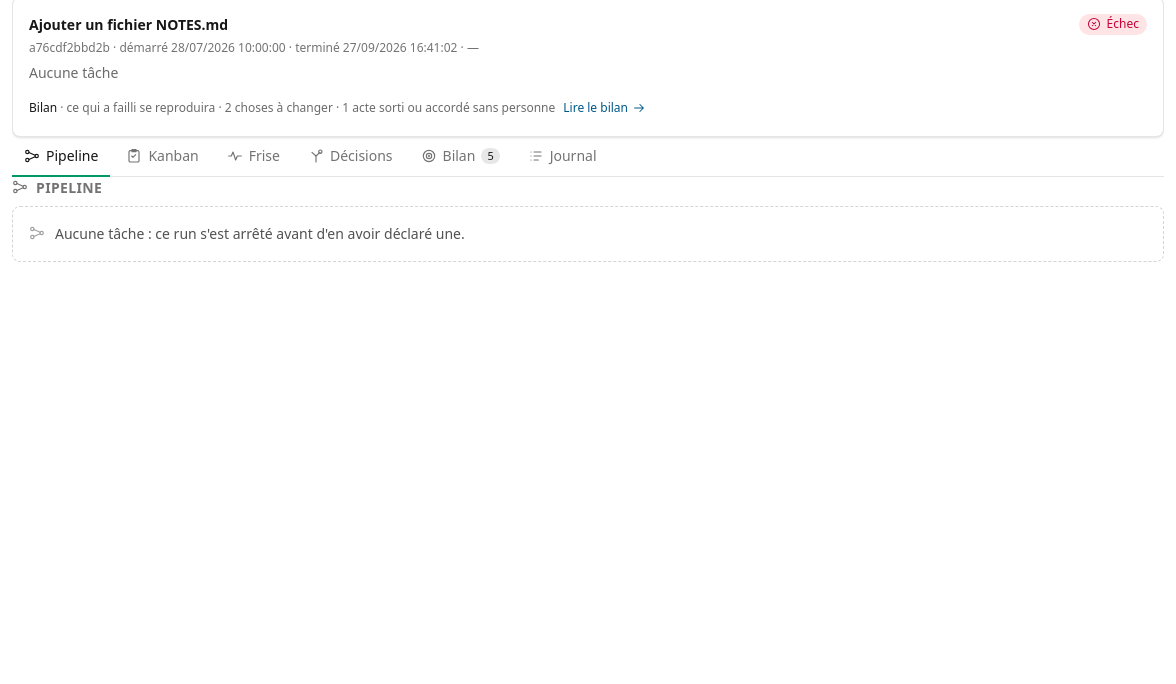
Scenario: un run en échec › se tait sur son coût quand il n'est pas connu
The width and height of the screenshot is (1176, 684).
Click the button "Bilan 5".
click(460, 157)  # box 408,137 -> 512,177
(page scrolled)
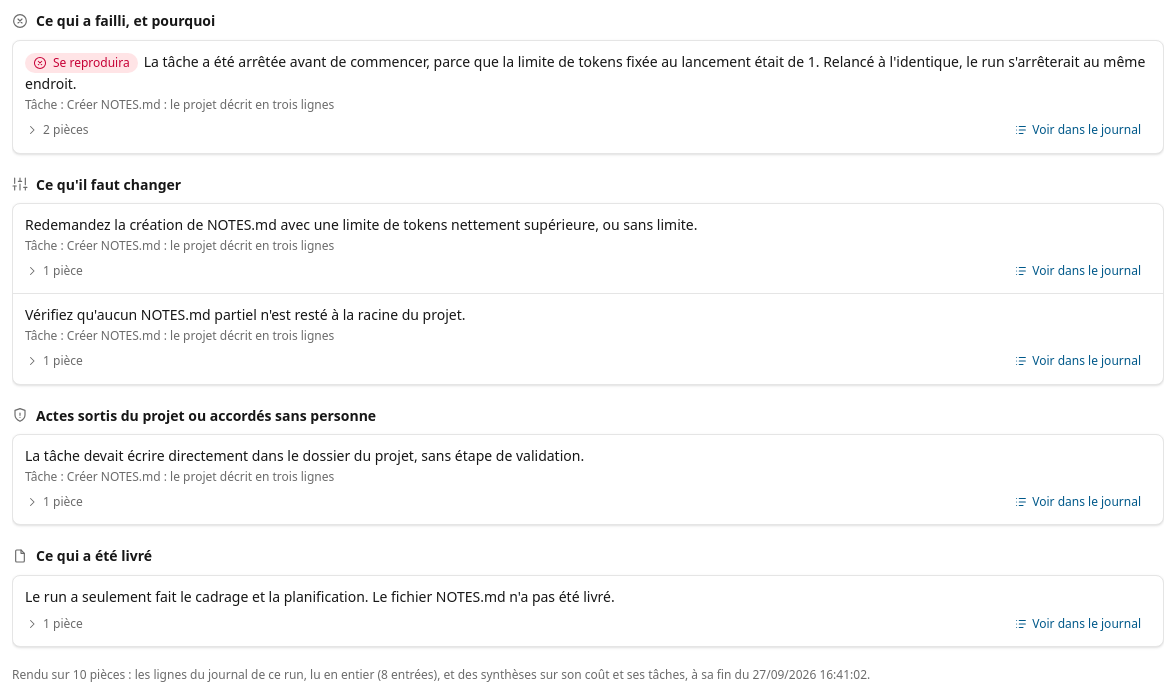
Expected: the text "Rendu sur" is shown, 12,666 -> 73,683
